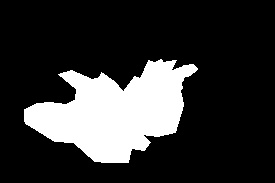Fire: (45, 59, 198, 142)
